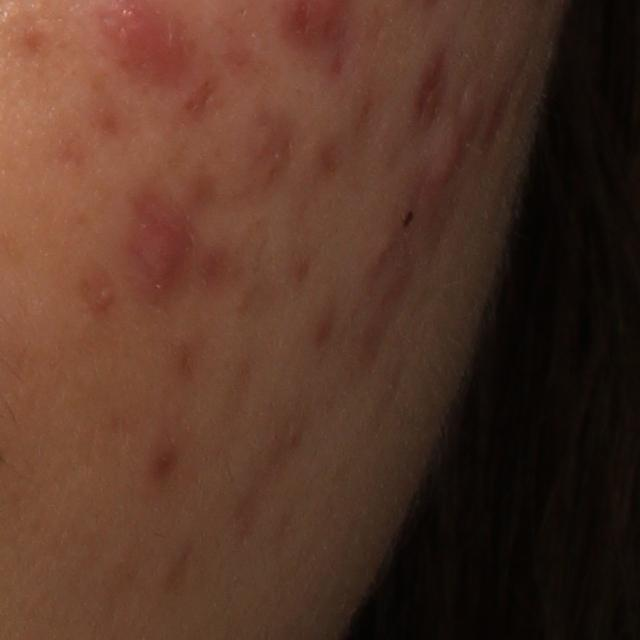nevus: (401, 207, 414, 232)
papule: (133, 221, 189, 289), (425, 124, 474, 187)
